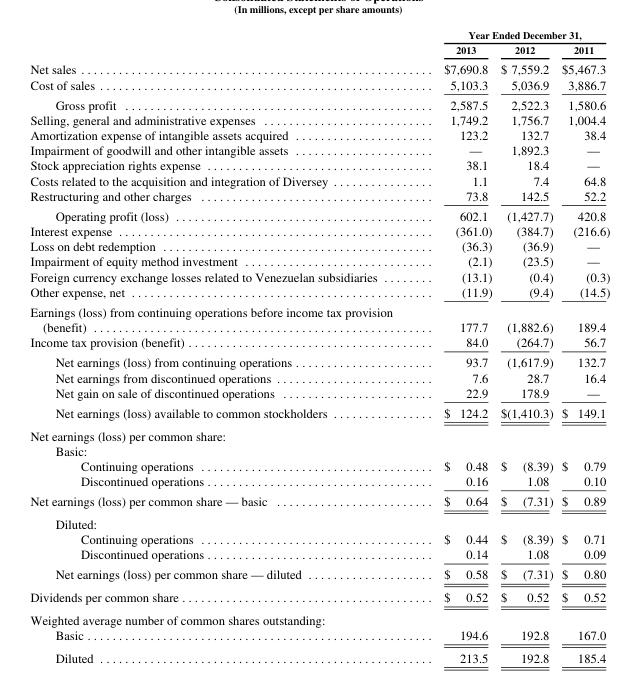table: (29, 28, 609, 664)
table column: (29, 28, 417, 664), (417, 28, 495, 664), (495, 28, 556, 664), (556, 28, 609, 664)
table column header: (29, 28, 609, 58)
table projected row header: (29, 423, 609, 442), (29, 512, 609, 531), (29, 608, 609, 627), (29, 442, 609, 458)
table row: (29, 301, 609, 334), (29, 585, 609, 608), (29, 490, 609, 512), (29, 402, 609, 423), (29, 564, 609, 585), (29, 423, 609, 442), (29, 512, 609, 531), (29, 608, 609, 627), (29, 627, 609, 646), (29, 58, 609, 76), (29, 76, 609, 94), (29, 94, 609, 112), (29, 187, 609, 205), (29, 205, 609, 223), (29, 283, 609, 301), (29, 351, 609, 369), (29, 384, 609, 402), (29, 546, 609, 564), (29, 646, 609, 664), (29, 334, 609, 351), (29, 473, 609, 490), (29, 42, 609, 58), (29, 442, 609, 458), (29, 112, 609, 127), (29, 127, 609, 142), (29, 142, 609, 157), (29, 157, 609, 172), (29, 172, 609, 187), (29, 223, 609, 238), (29, 238, 609, 253), (29, 253, 609, 268), (29, 268, 609, 283), (29, 369, 609, 384), (29, 458, 609, 473), (29, 531, 609, 546), (29, 28, 609, 42)
table spanning cell: (417, 28, 609, 42)
